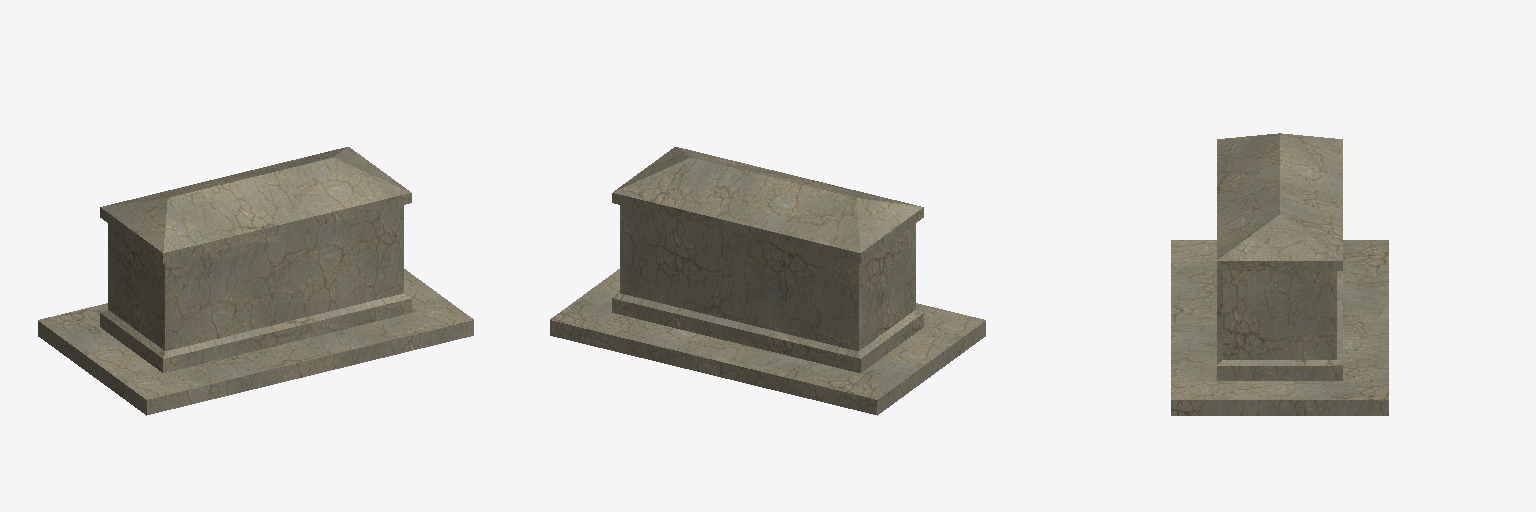
The picture shows the model from 3 angles: view 1: azimuth 30°, elevation 25°; view 2: azimuth 150°, elevation 25°; view 3: azimuth 270°, elevation 25°; orthographic projection.
Bounding box in the file's own units: 3.3 × 1.53 × 1.9.
Materials: 1 (1 with a texture image).